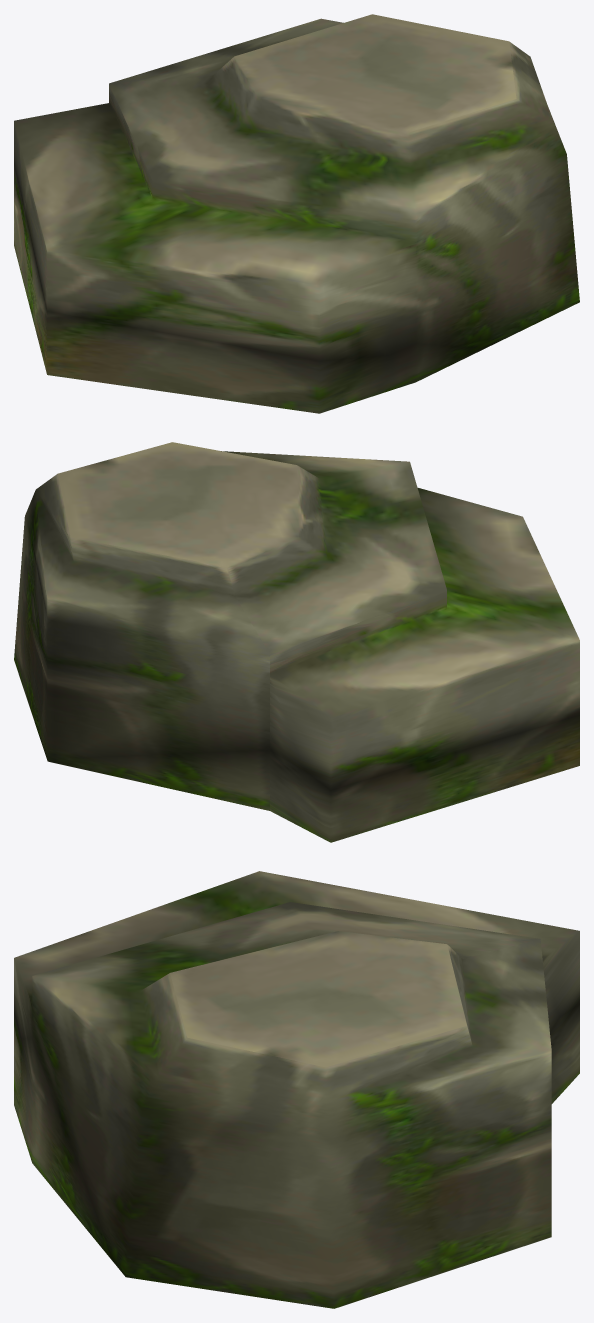
Rendered from RockFormation_4_5 (36).fbx.
The picture shows the model from 3 angles, top to bottom: view 1: azimuth 30°, elevation 25°; view 2: azimuth 150°, elevation 25°; view 3: azimuth 270°, elevation 25°; orthographic projection. The views are drawn at different scales.
Parts seen in each view (by area): view 1: RockFormation_4_5 (36); view 2: RockFormation_4_5 (36); view 3: RockFormation_4_5 (36).
Boxes of the visible parts, box(x1,y1,x2,y2) form: RockFormation_4_5 (36): box(14, 14, 579, 413); RockFormation_4_5 (36): box(14, 442, 579, 842); RockFormation_4_5 (36): box(14, 871, 579, 1308).
Size of the model in its own units: 590 by 204 by 478.
